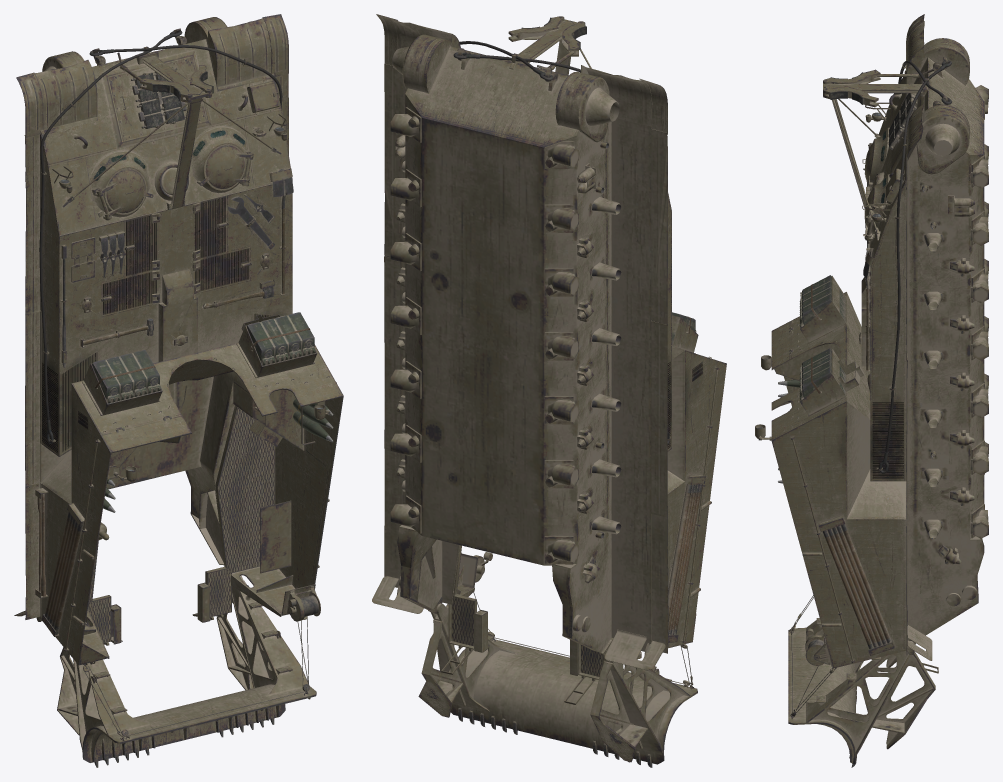
The model's file is Hull.glb.
The picture shows the model from 3 angles, left to right: view 1: azimuth 30°, elevation 25°; view 2: azimuth 150°, elevation 25°; view 3: azimuth 270°, elevation 25°; orthographic projection. The views are drawn at different scales.
Parts seen in each view (by area): view 1: set_0_group_0; view 2: set_0_group_0; view 3: set_0_group_0.
Part boxes in pixels (box(x1,y1,x2,y2)): set_0_group_0: box(14, 14, 343, 767); set_0_group_0: box(372, 14, 726, 767); set_0_group_0: box(755, 14, 988, 767).
Size of the model in its own units: 3.39 by 8.29 by 2.7.
1 material, 1 textured.
